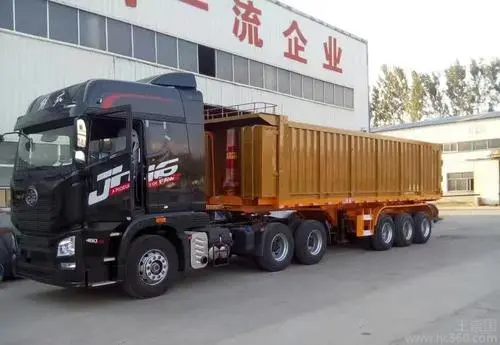bigtruck: (18, 83, 444, 291)
